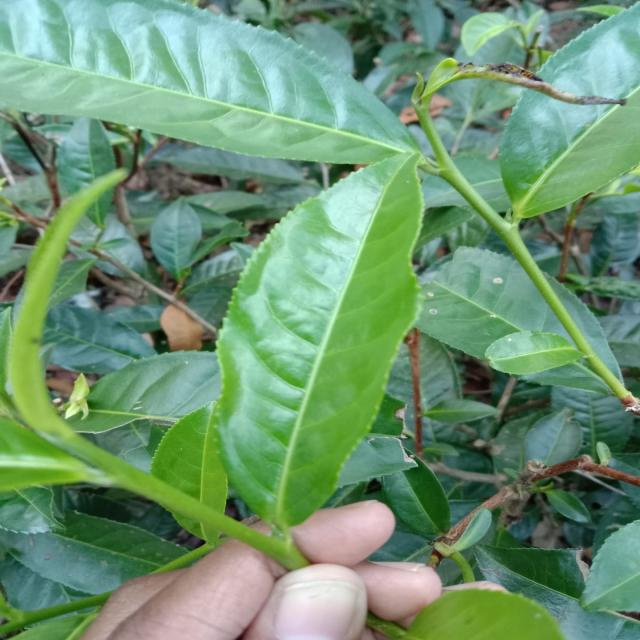Category C 4-7 days: (183, 124, 449, 548)
